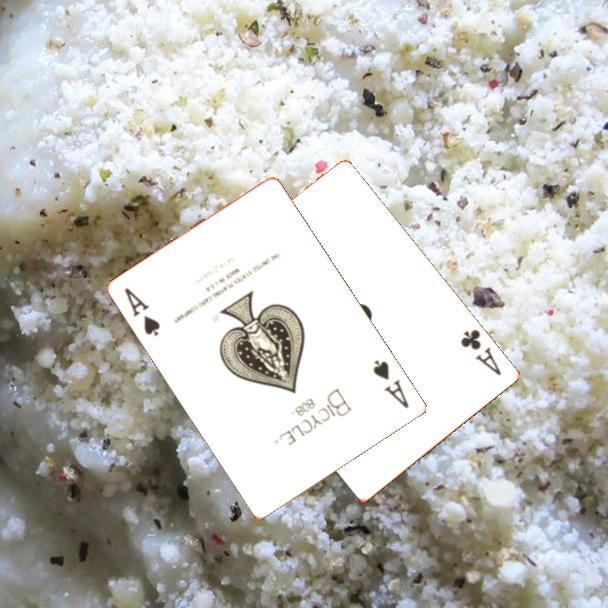c01: (457, 326, 505, 379)
s01: (370, 356, 413, 411), (121, 284, 164, 339)
